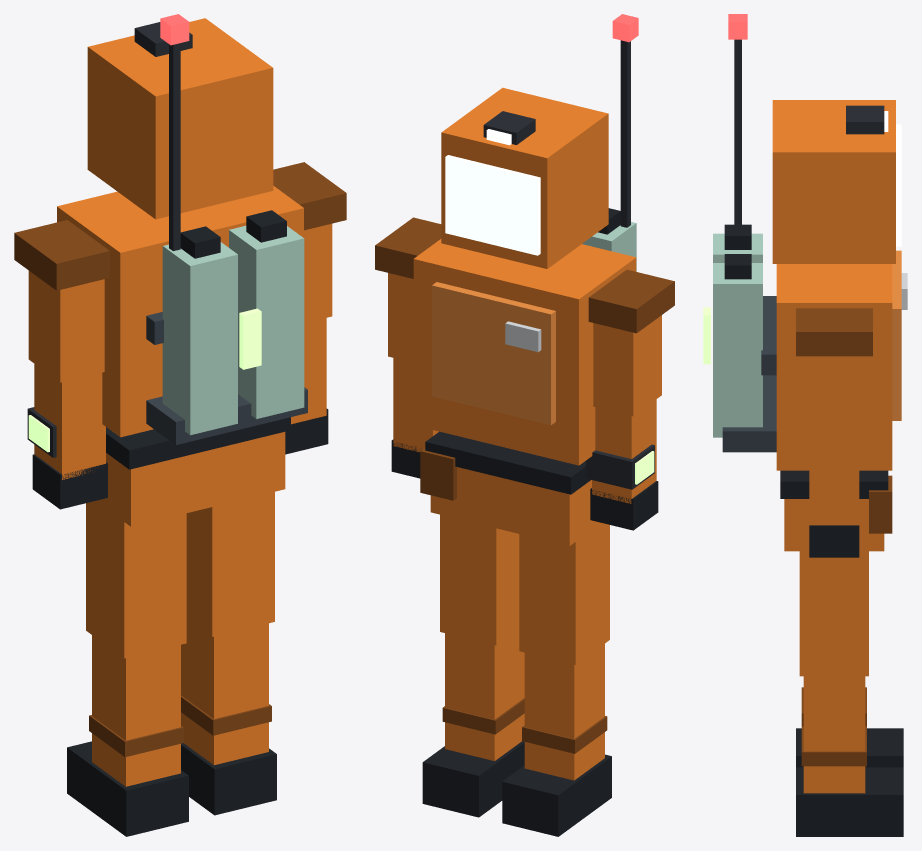
File: bio_tech_orange.glb
3 renders of one model, left to right at view 1: azimuth 30°, elevation 25°; view 2: azimuth 150°, elevation 25°; view 3: azimuth 270°, elevation 25°, orthographic. The views are drawn at different scales.
Visible parts, largest first — view 1: Merged6, Merged, Merged7, Merged8, Merged9, _MeshInstance3D_2567, Merged3, _MeshInstance3D_2578, Merged2, Merged5, Merged4; view 2: Merged6, Merged, Merged7, Merged8, Merged9, _MeshInstance3D_2567, Merged3, _MeshInstance3D_2578, Merged2, Merged5, Merged4; view 3: Merged6, Merged, Merged8, Merged5, _MeshInstance3D_2578, Merged4, Merged9, Merged7.
Boxes of the visible parts, x1,y1,x2,y2 form: Merged6: (57, 14, 307, 444); Merged: (87, 18, 273, 219); Merged7: (67, 635, 188, 836); Merged8: (181, 618, 276, 815); Merged9: (96, 417, 290, 526); _MeshInstance3D_2567: (86, 501, 186, 658); Merged3: (14, 220, 109, 382); _MeshInstance3D_2578: (186, 492, 274, 636); Merged2: (27, 364, 107, 509); Merged5: (273, 162, 346, 322); Merged4: (285, 318, 328, 454); Merged6: (413, 14, 638, 465); Merged: (441, 87, 608, 268); Merged7: (502, 644, 611, 836); Merged8: (422, 629, 524, 817); Merged9: (420, 431, 600, 545); _MeshInstance3D_2567: (519, 523, 609, 664); Merged3: (588, 269, 674, 416); _MeshInstance3D_2578: (440, 514, 519, 645); Merged2: (586, 399, 658, 530); Merged5: (375, 217, 441, 362); Merged4: (391, 358, 438, 478); Merged6: (703, 14, 907, 470); Merged: (772, 100, 901, 263); Merged8: (796, 676, 903, 836); Merged5: (796, 308, 872, 441); _MeshInstance3D_2578: (799, 551, 868, 676); Merged4: (809, 441, 859, 557); Merged9: (780, 470, 892, 551); Merged7: (796, 687, 903, 767).
Bounding box in the file's own units: 0.79 × 2.18 × 0.53.
